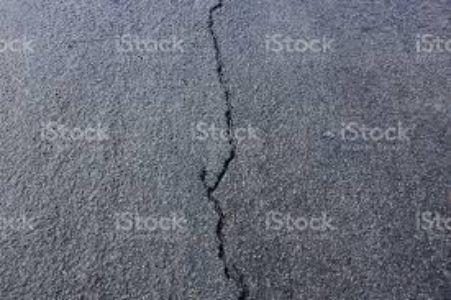crack: (191, 0, 254, 300)
